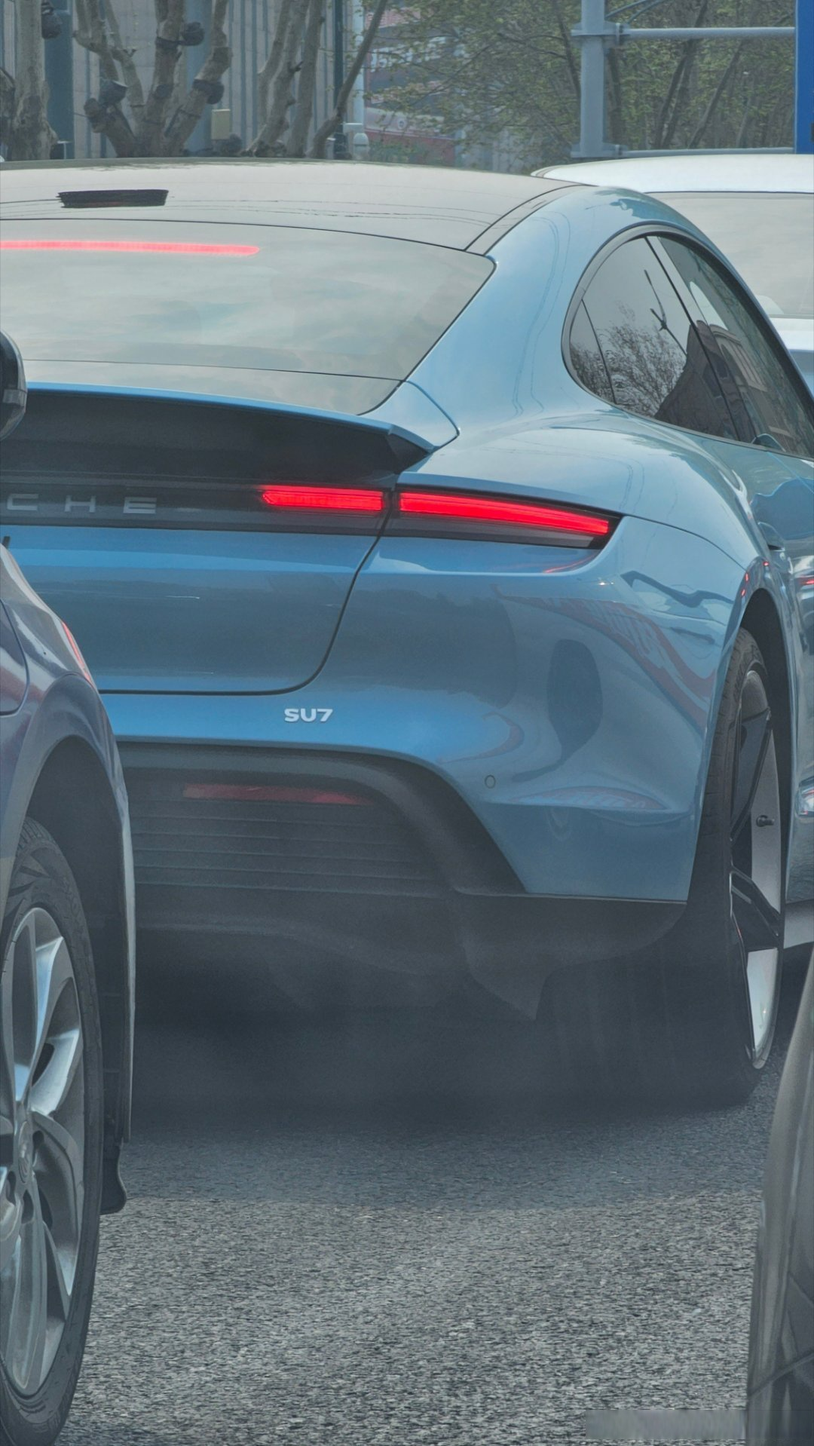other: (0, 120, 808, 1118)
